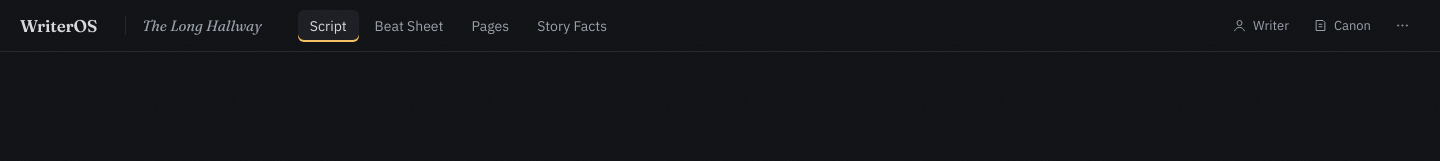
Test: TopBar save status › drops "Saved …" when another project opens
Click the button named "project actions": [1402, 26] box x1=1385 y1=12 x2=1420 y2=39
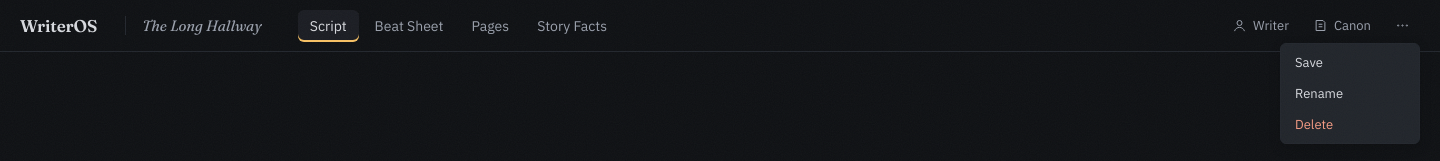
Click the menu item "Save": [1350, 62] box x1=1285 y1=48 x2=1415 y2=77
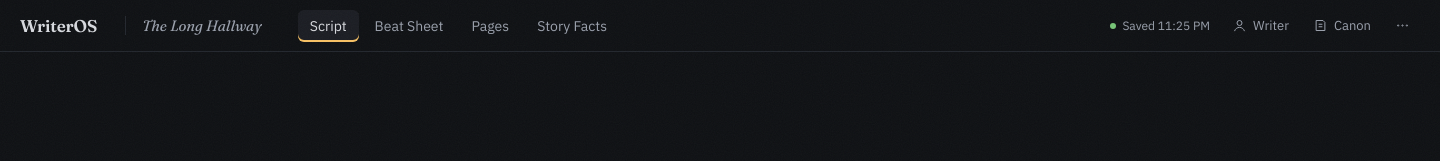
expect the text "Saved 11:25 PM" is shown: met, box x1=1122 y1=18 x2=1210 y2=33
